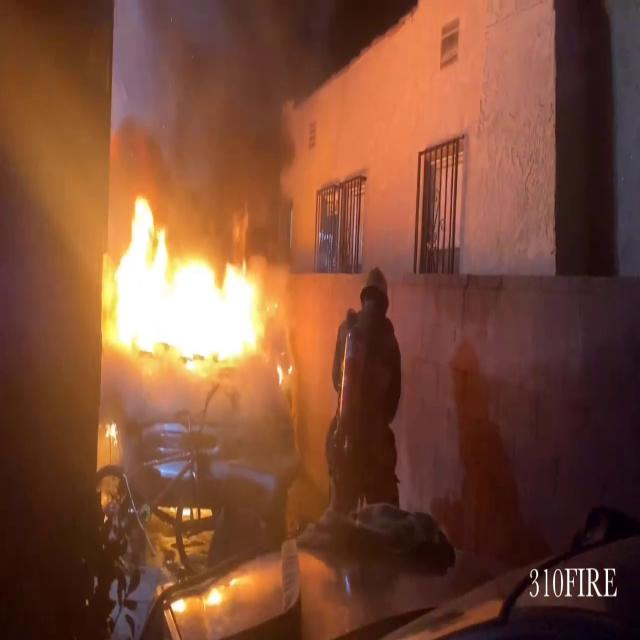Fire: (96, 192, 274, 373)
Smoke: (116, 0, 324, 220)
